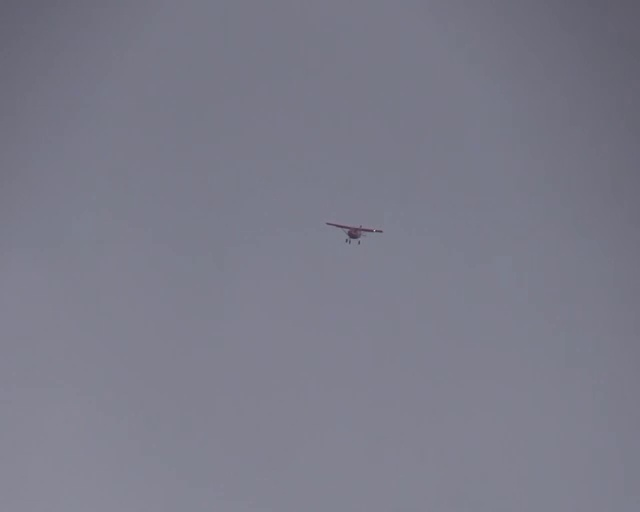AIRPLANE: (325, 221, 383, 245)
